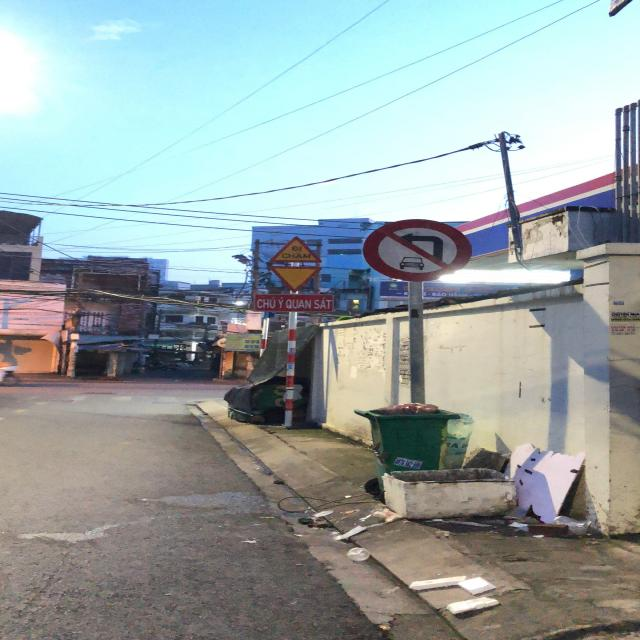Bien bao cam xe o to re trai: (362, 217, 482, 282)
Bien bao di cham: (266, 234, 325, 264)
Bien bao giao nhau voi duong uu tien: (265, 263, 319, 291)
